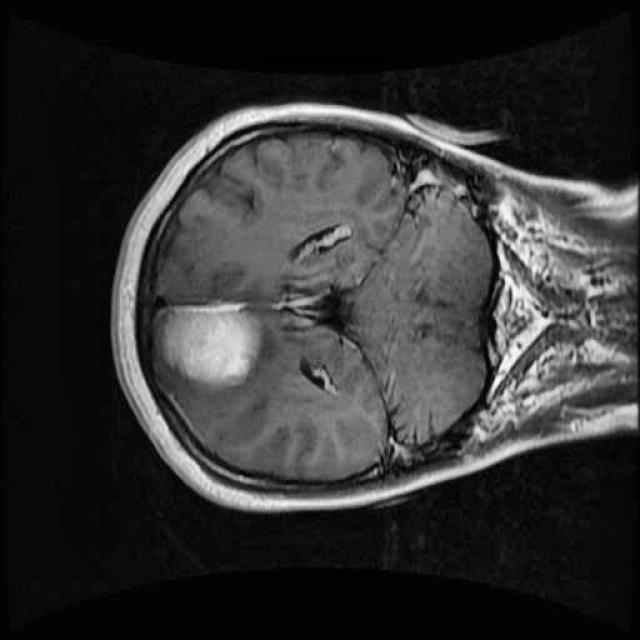Tumor: (146, 289, 272, 400)
